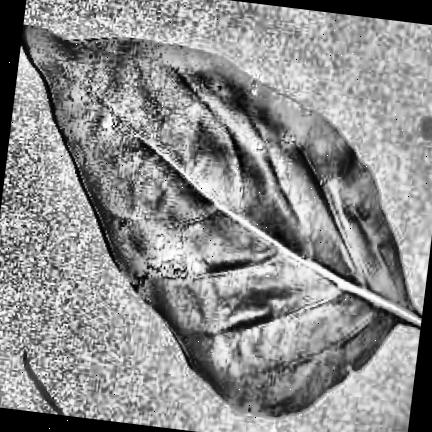leaf: (22, 24, 421, 416)
